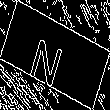N_N: (35, 24, 75, 86)
